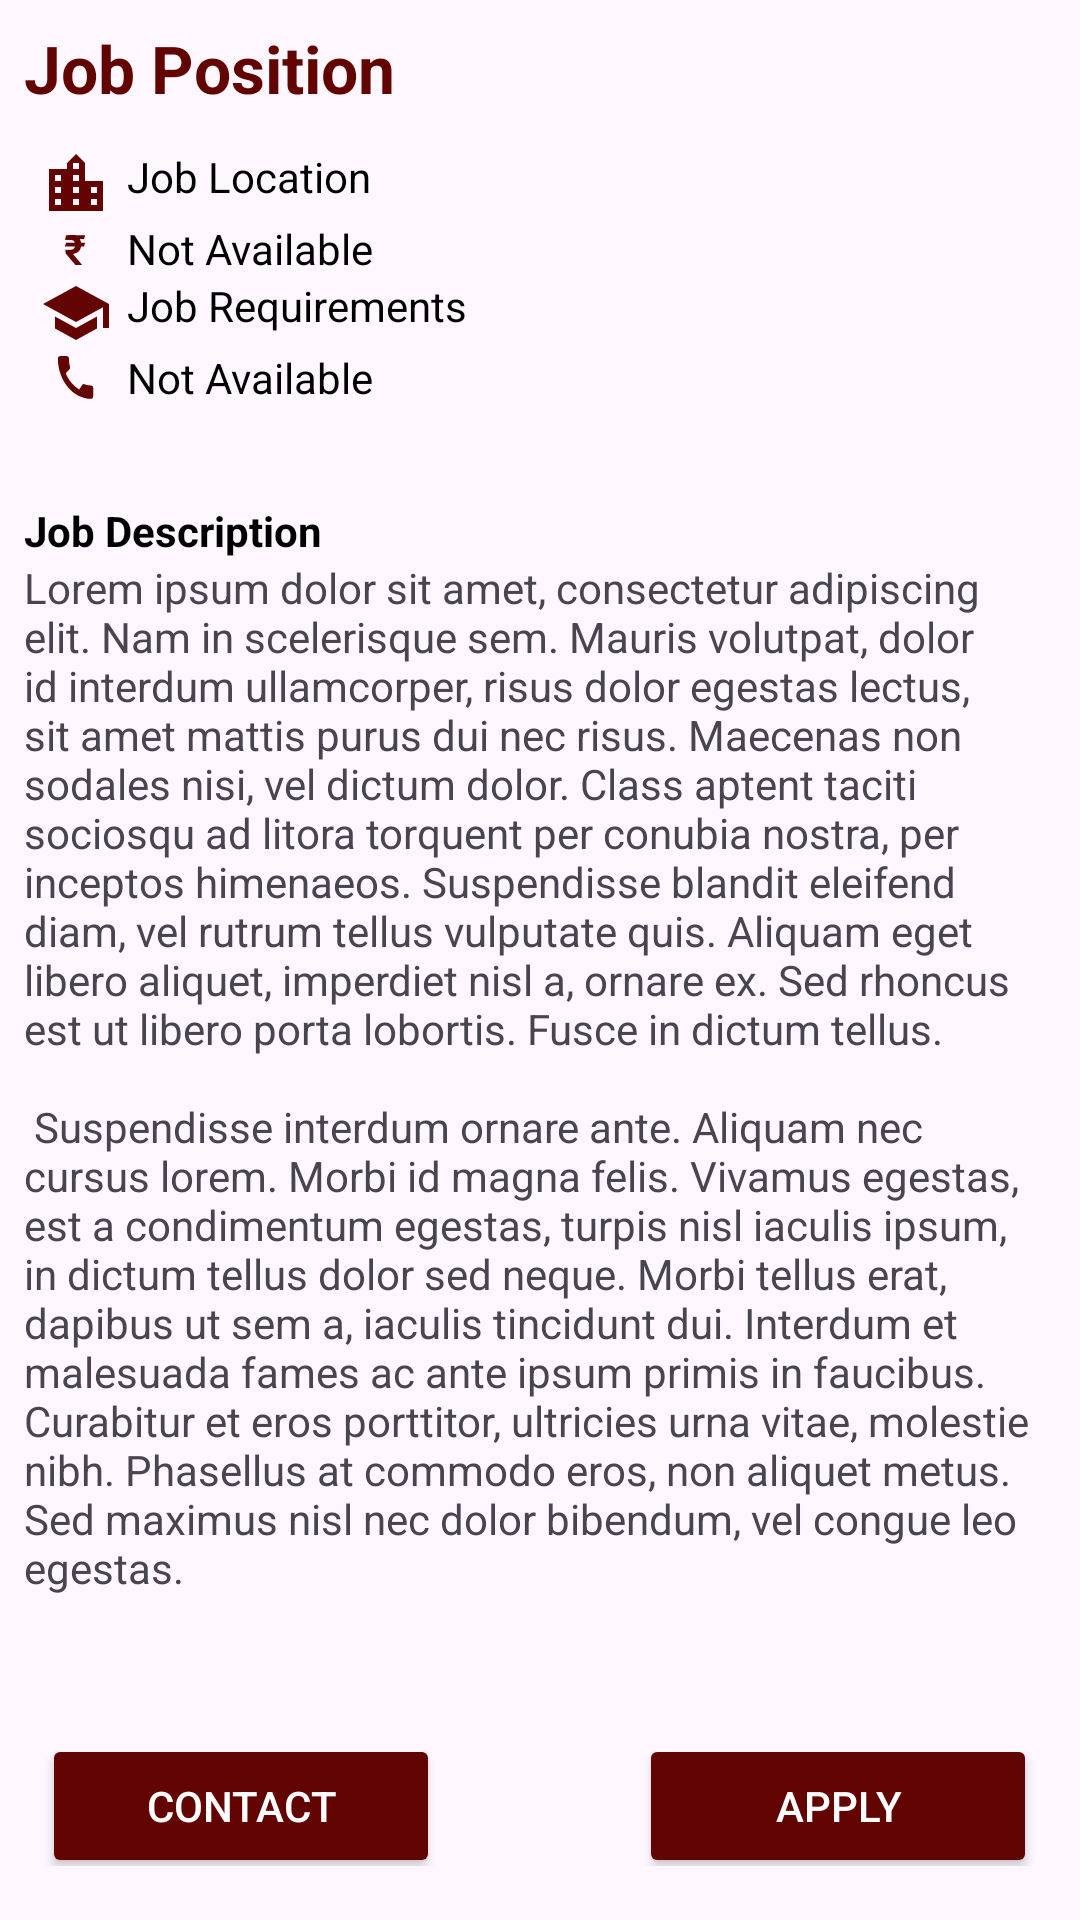

Icons on this 1080 x 1920 Android screen, each with its box as (x1, y1, x2, y2):
call: (58, 356, 94, 399)
location city: (49, 154, 103, 211)
school: (43, 286, 109, 340)
